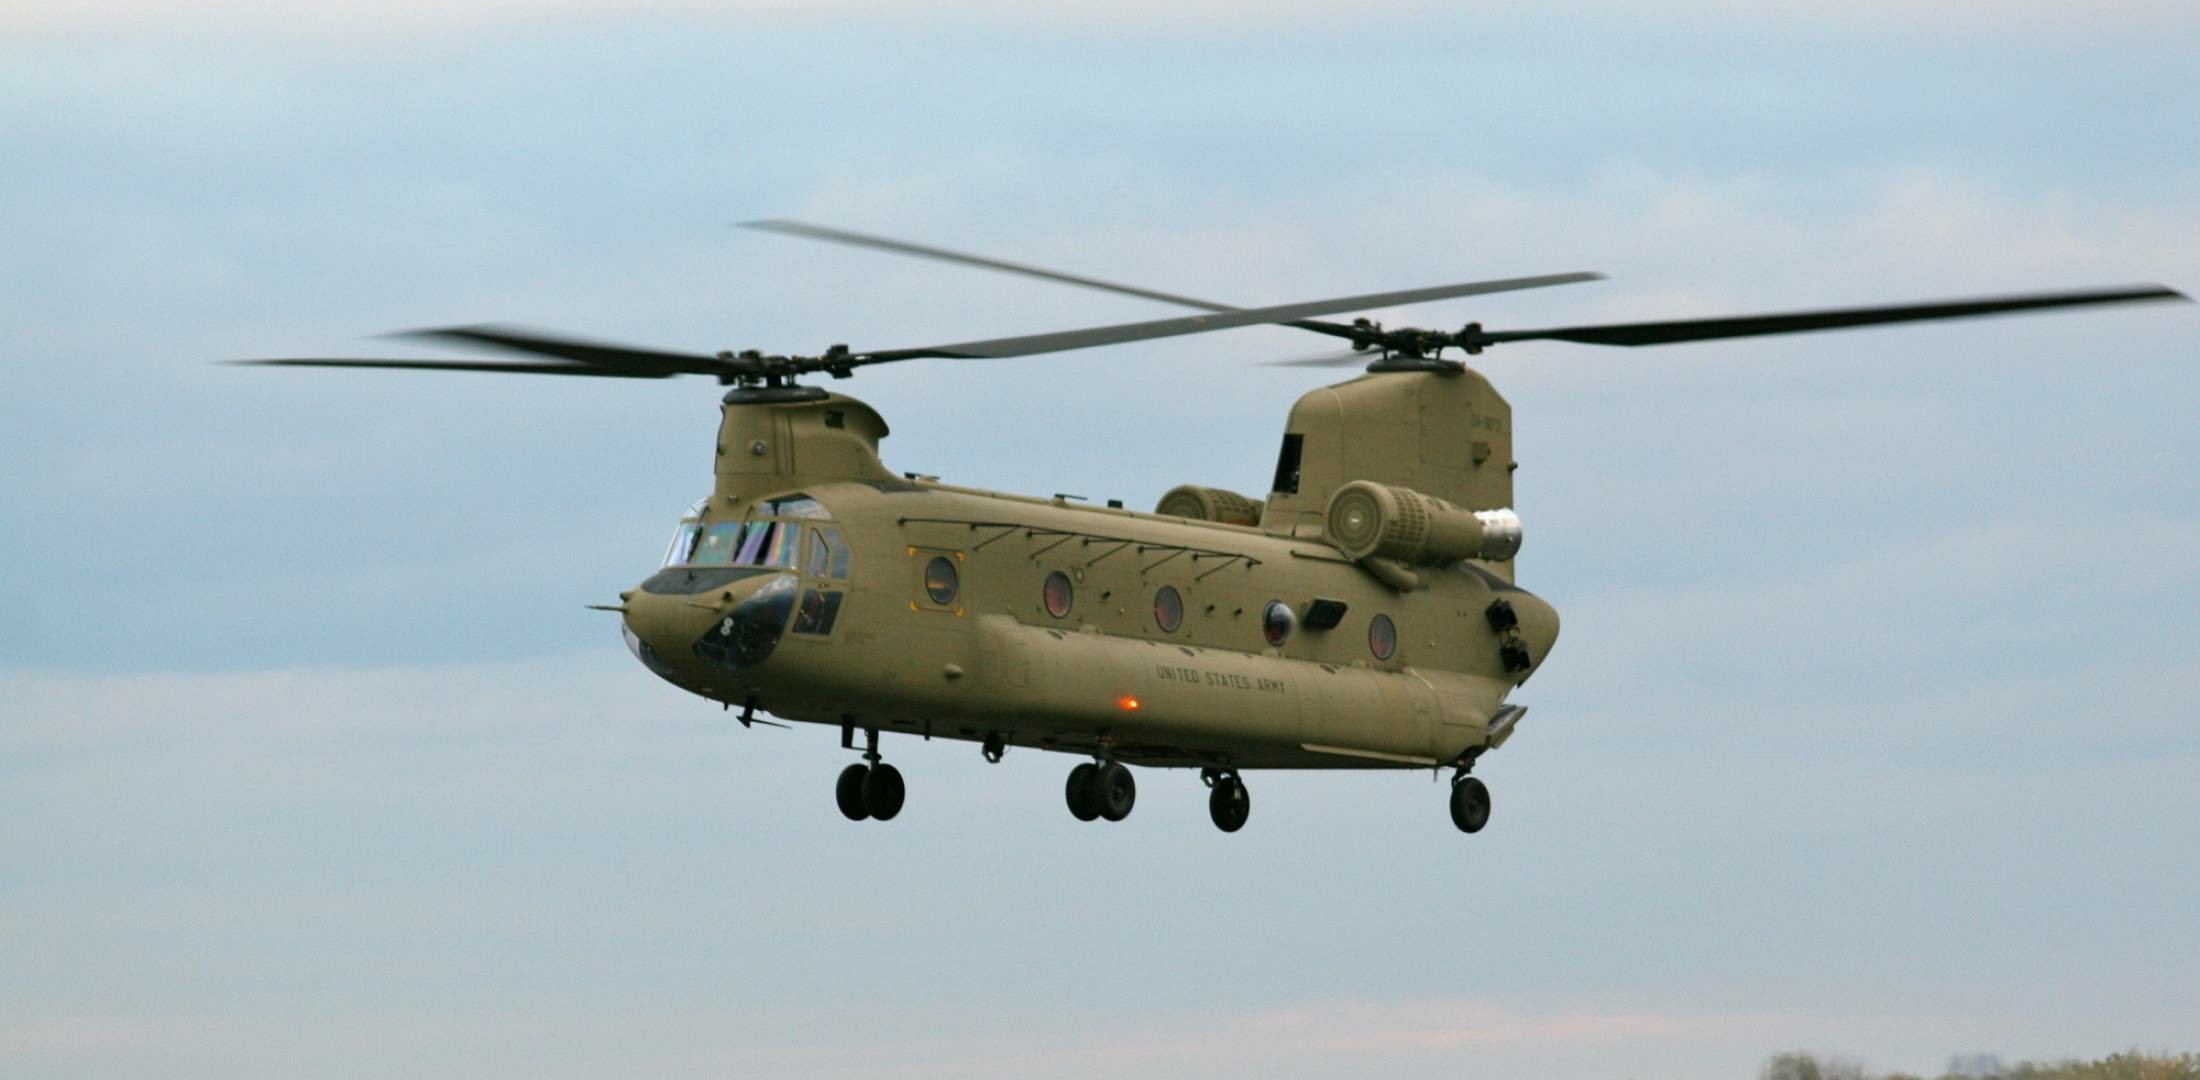chinook: (436, 224, 2081, 835)
